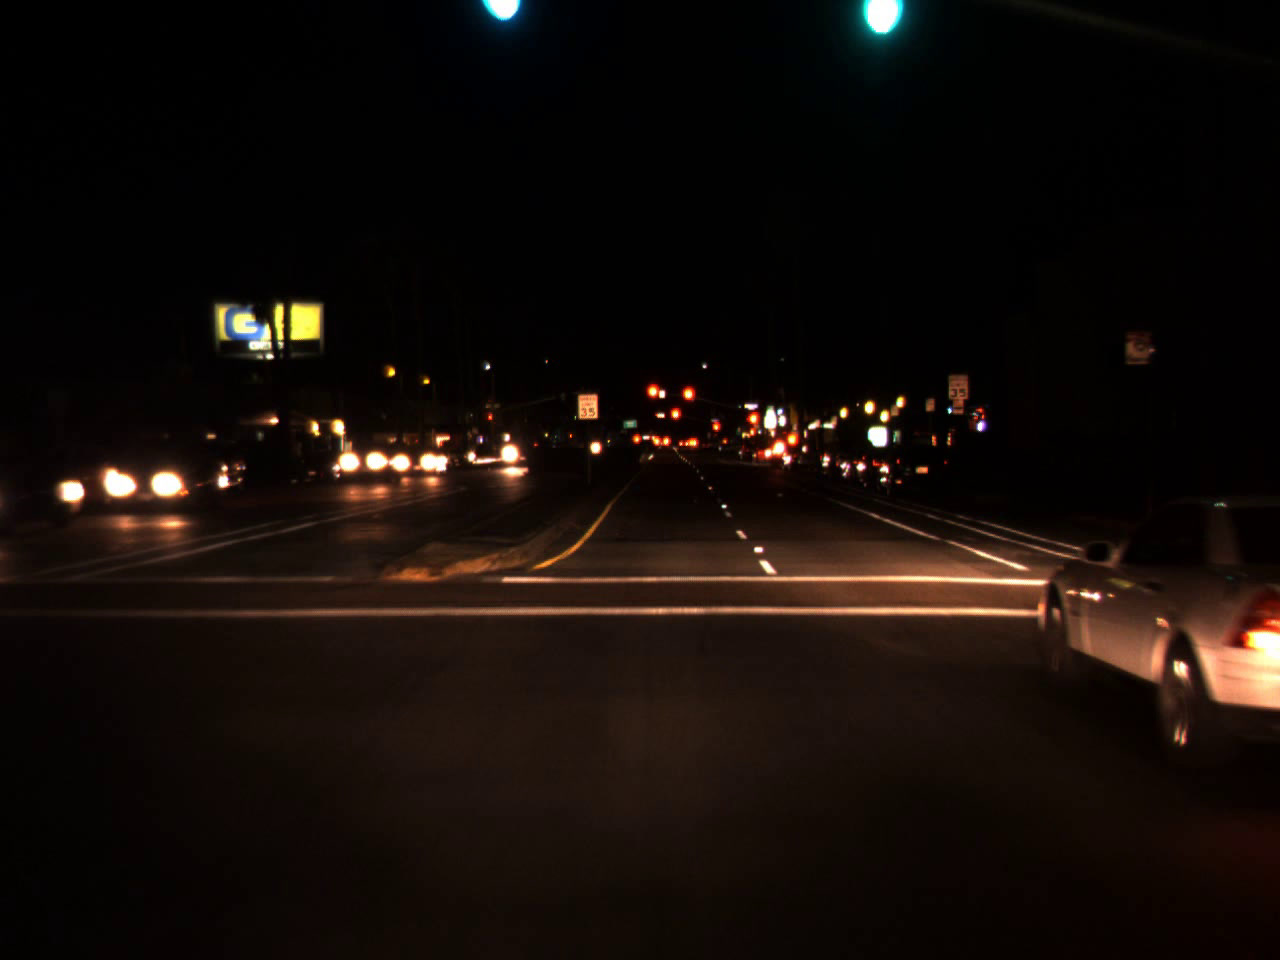go: (856, 0, 899, 44), (476, 0, 524, 27)
stop: (645, 382, 663, 414), (745, 408, 760, 445), (680, 385, 696, 417), (668, 405, 681, 434), (711, 420, 720, 441), (487, 414, 493, 424)
